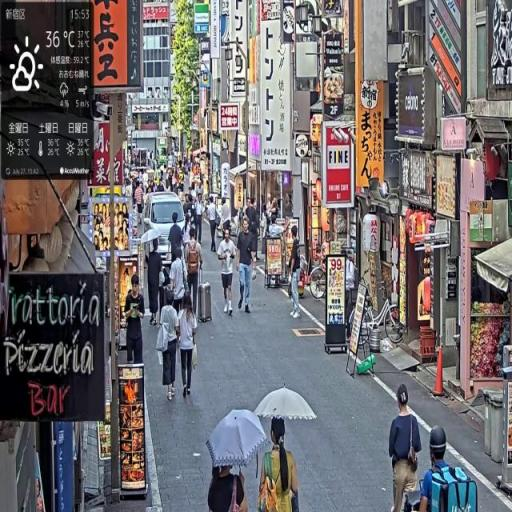person: (257, 411, 302, 512), (389, 384, 423, 512), (157, 293, 180, 404), (208, 455, 248, 512), (124, 275, 147, 374), (178, 293, 199, 399), (236, 217, 258, 314), (185, 226, 205, 319), (219, 224, 238, 317), (147, 240, 166, 329), (171, 250, 188, 319), (169, 214, 186, 268), (208, 198, 221, 255)
